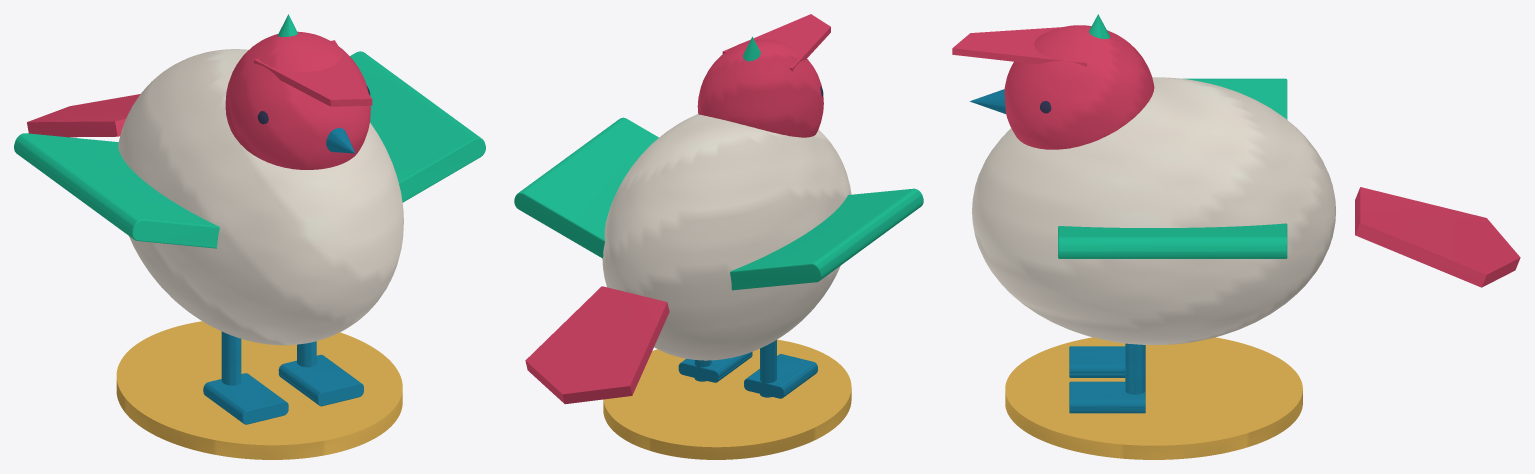
The model's file is 0062_鸟类图鉴_啄木鸟.glb.
3 renders of one model, left to right at view 1: azimuth 30°, elevation 25°; view 2: azimuth 150°, elevation 25°; view 3: azimuth 270°, elevation 25°, orthographic. The views are drawn at different scales.
Visible parts, largest first — view 1: card_0062; view 2: card_0062; view 3: card_0062.
Boxes of the visible parts, <box> form: card_0062: <box>14,14,485,459</box>; card_0062: <box>514,14,923,459</box>; card_0062: <box>952,14,1520,459</box>.
Size of the model in its own units: 0.9186 by 1 by 1.32.
